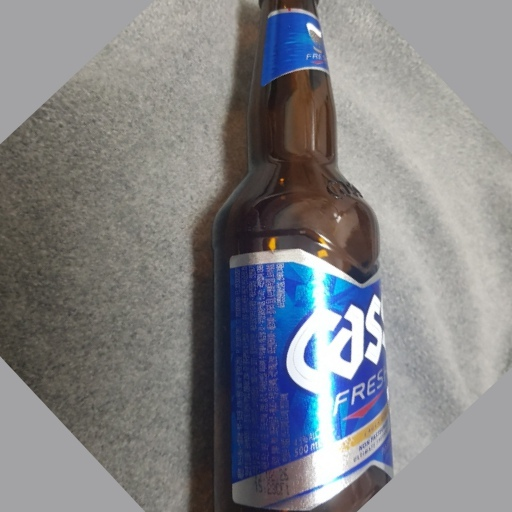Glass_1: (210, 1, 396, 512)
